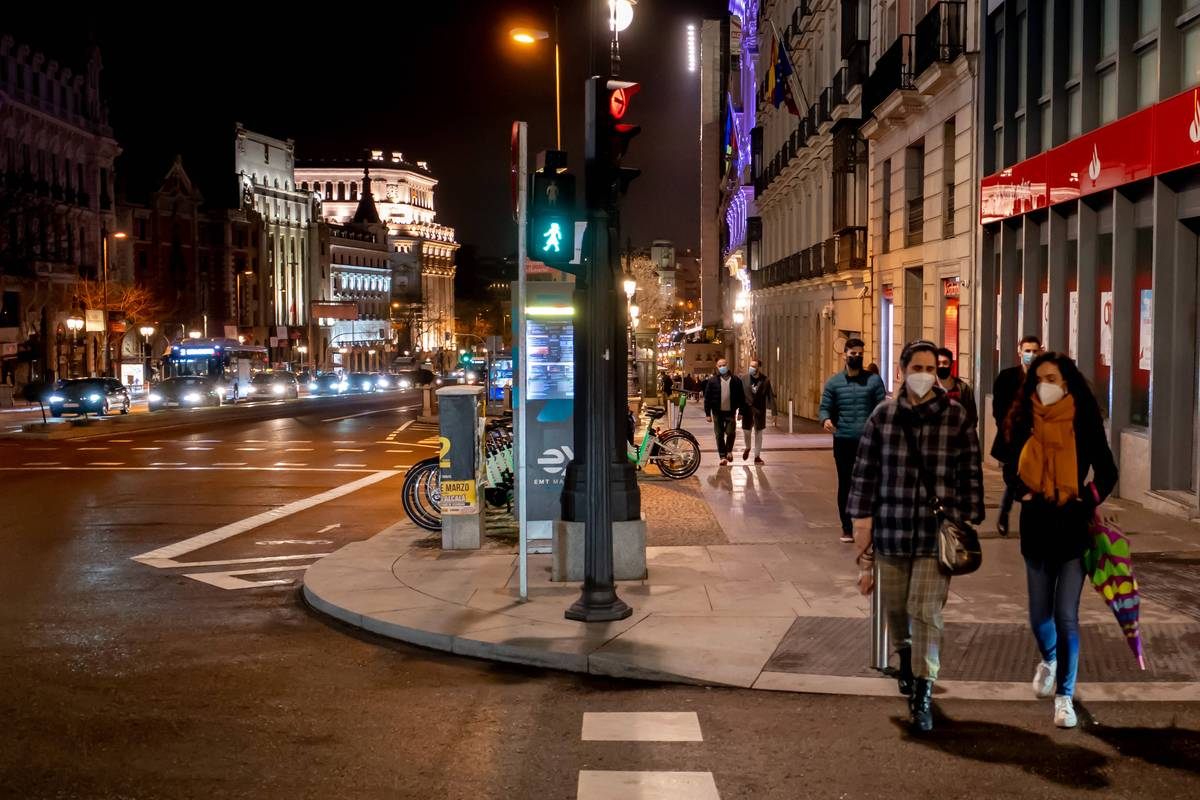bicycle: (401, 433, 514, 532), (627, 407, 702, 481)
car: (37, 378, 131, 419), (147, 377, 220, 411), (238, 370, 301, 402)
person: (840, 342, 986, 730), (995, 351, 1119, 730), (819, 338, 887, 537), (987, 336, 1049, 528), (700, 362, 752, 464), (739, 362, 774, 465), (934, 346, 970, 405)
traffic light: (526, 150, 580, 269), (591, 79, 645, 167)
